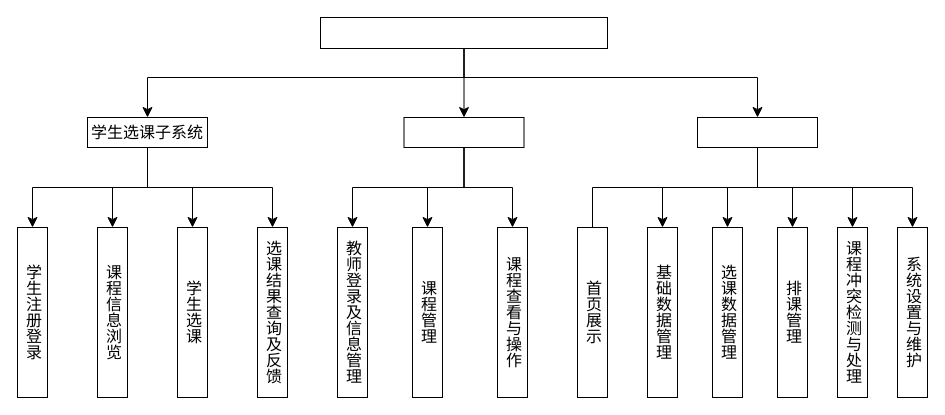
Some shapes in this 945 by 415 pixel diagram are drawn without their labels. The shapes that lost their labels are listed below. From the top down, each one's centre as x and y in pixels, then its label:
point 464,32: 基于C/S体系结构的高校教务排课系统
point 463,132: 教师子系统
point 757,132: 后端管理子系统
